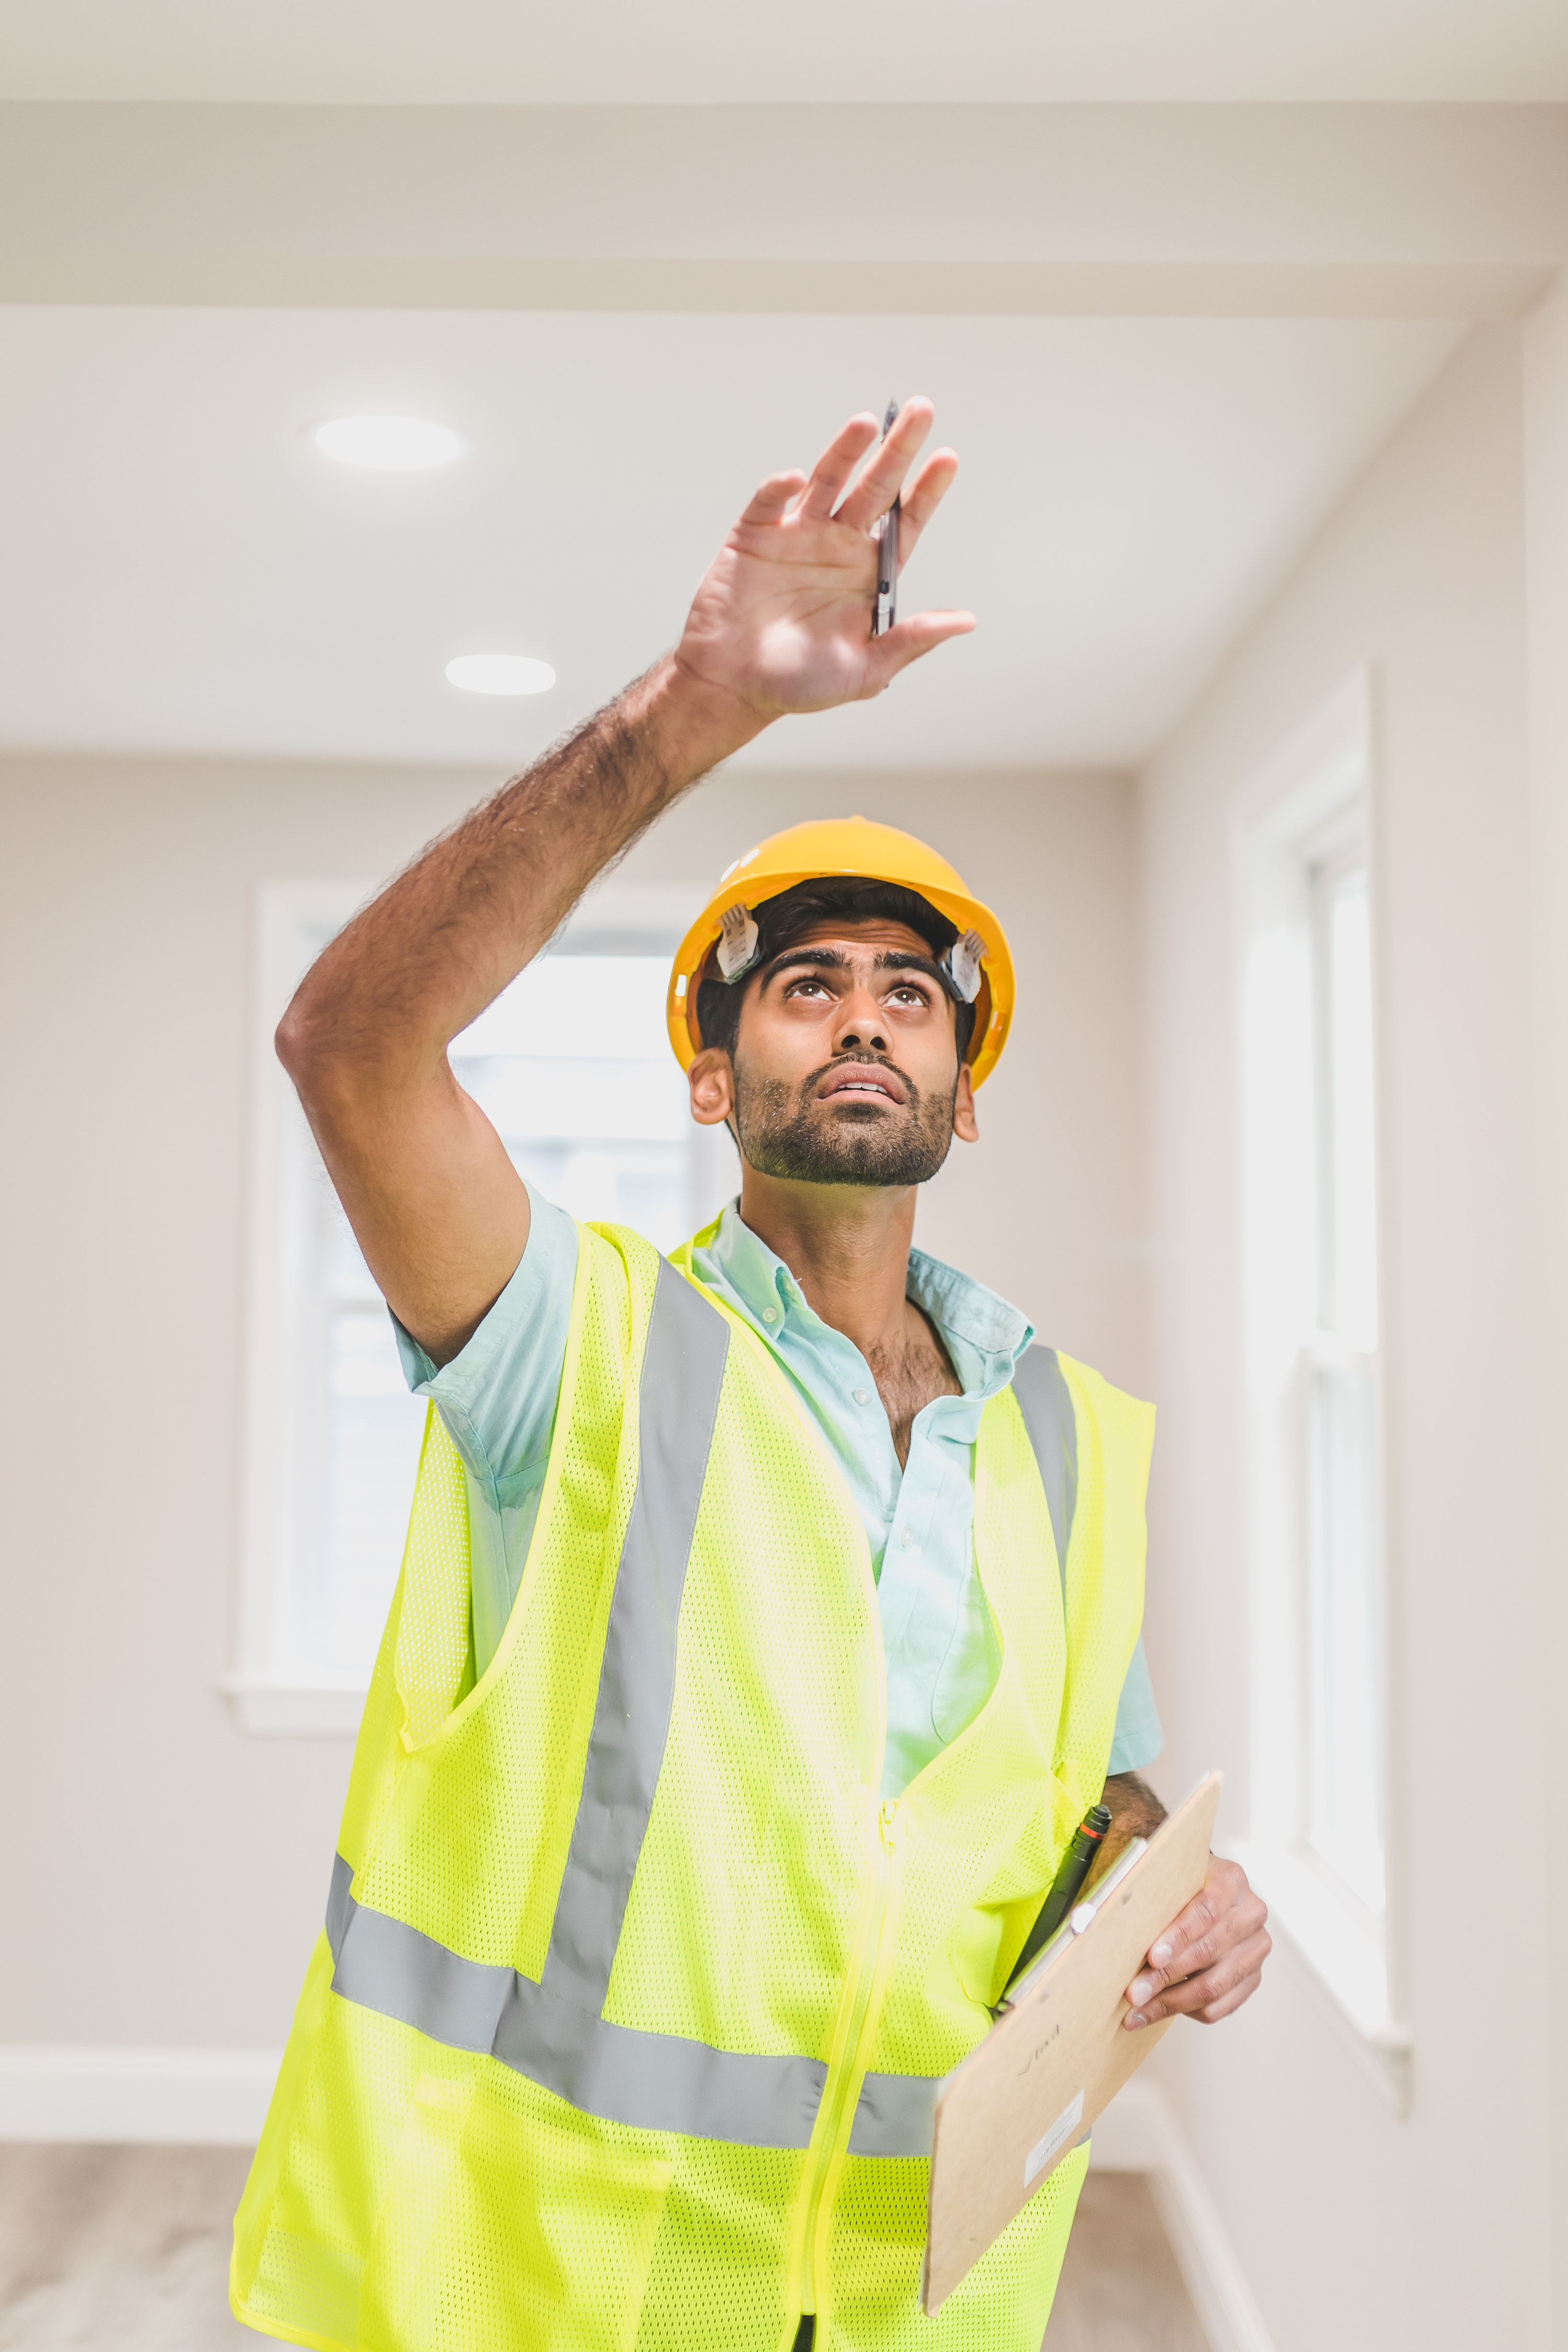Helmet: (635, 796, 1048, 1333)
Reflective vest: (247, 1220, 1153, 2352)
